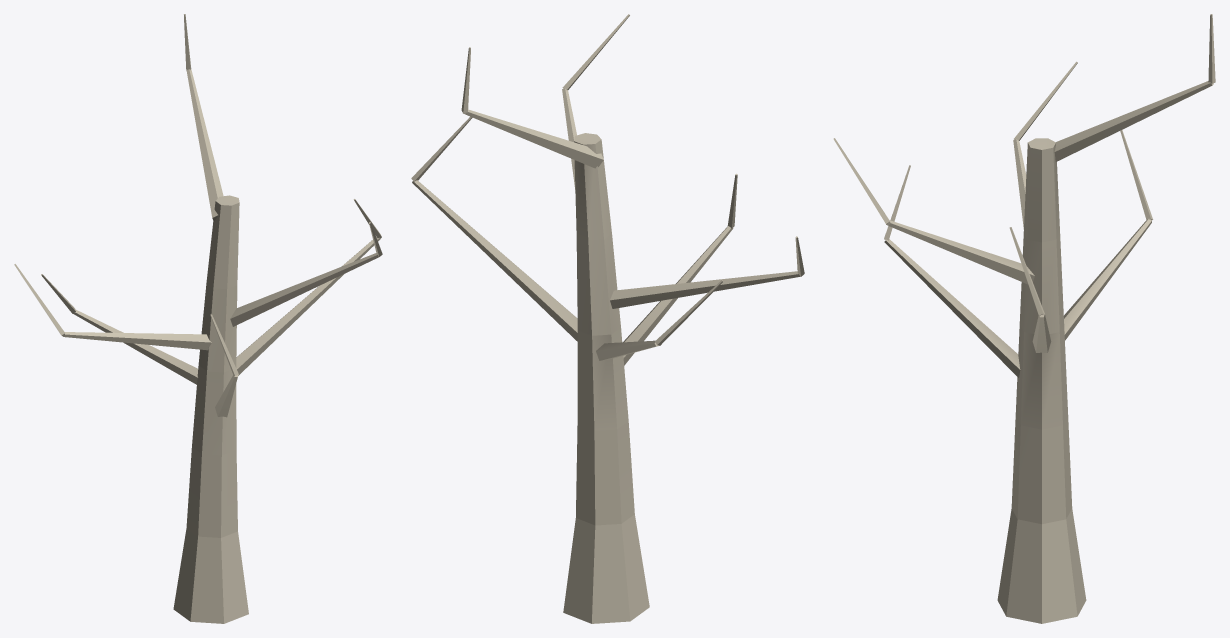
File: DeadTree.fbx
3 renders of one model, left to right at view 1: azimuth 30°, elevation 25°; view 2: azimuth 150°, elevation 25°; view 3: azimuth 270°, elevation 25°, orthographic. The views are drawn at different scales.
Parts seen in each view (by area): view 1: DeadTree; view 2: DeadTree; view 3: DeadTree.
Boxes of the visible parts, <box> form: DeadTree: <box>14,14,382,623</box>; DeadTree: <box>411,14,804,623</box>; DeadTree: <box>833,14,1215,623</box>.
Size of the model in its own units: 4.56 by 6.56 by 3.69.
